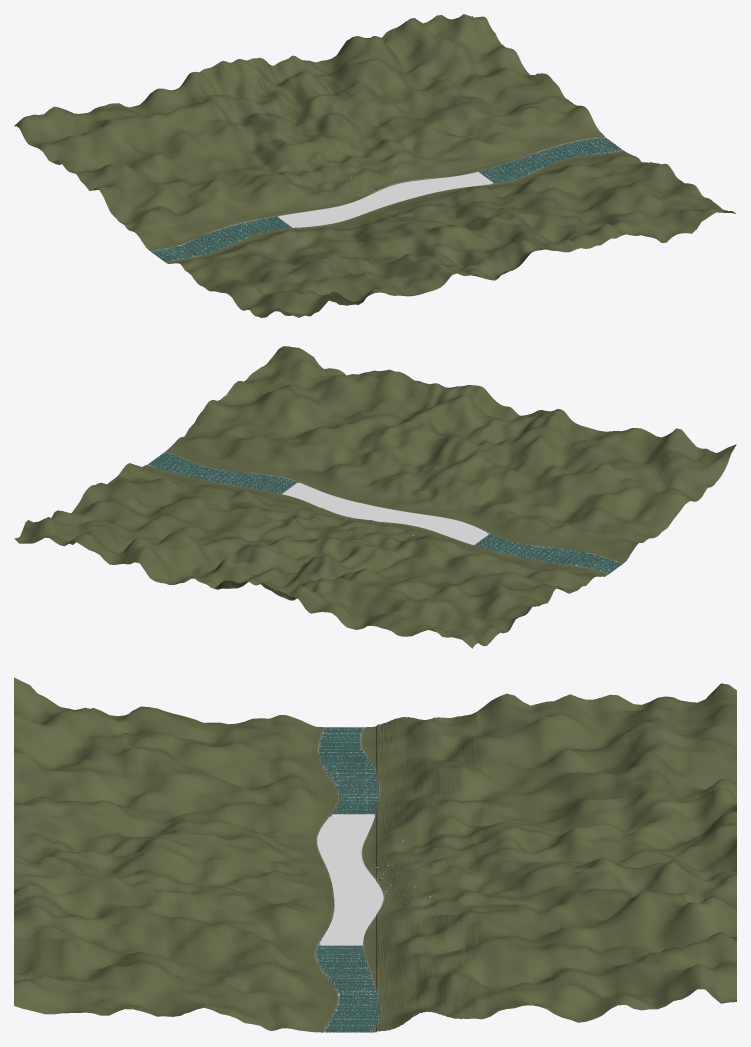
Rendered from jiaoping.glb.
3 views of the same model, one above another, from view 1: azimuth 30°, elevation 25°; view 2: azimuth 150°, elevation 25°; view 3: azimuth 270°, elevation 25° (orthographic). The views are drawn at different scales.
Parts seen in each view (by area): view 1: Continuous terrain, River surface; view 2: Continuous terrain, River surface; view 3: Continuous terrain, River surface.
Part boxes in pixels (x1,y1,x2,y2): Continuous terrain: (14, 14, 735, 317); River surface: (152, 137, 622, 260); Continuous terrain: (14, 346, 736, 648); River surface: (149, 452, 620, 573); Continuous terrain: (14, 677, 736, 1032); River surface: (317, 727, 383, 1032).
Size of the model in its own units: 2442 by 214 by 2442.
Materials: 28 (7 with a texture image).
